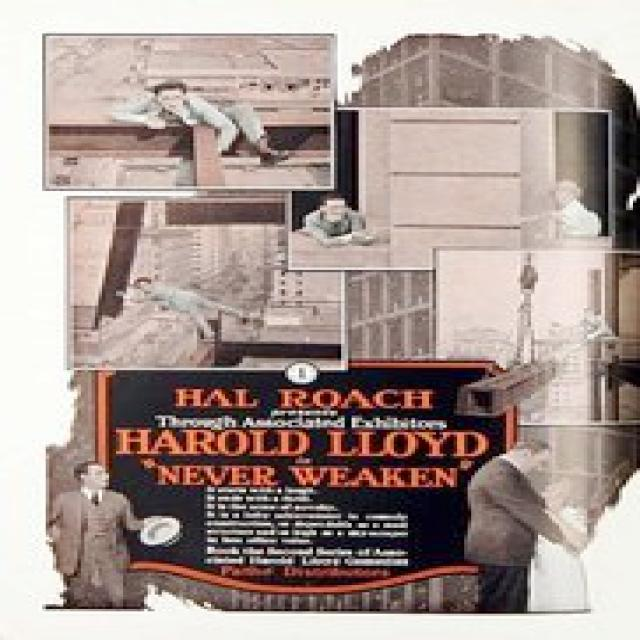movie-judul: (115, 374, 498, 518)
picture: (71, 48, 627, 353), (461, 439, 581, 618), (29, 458, 164, 607)
